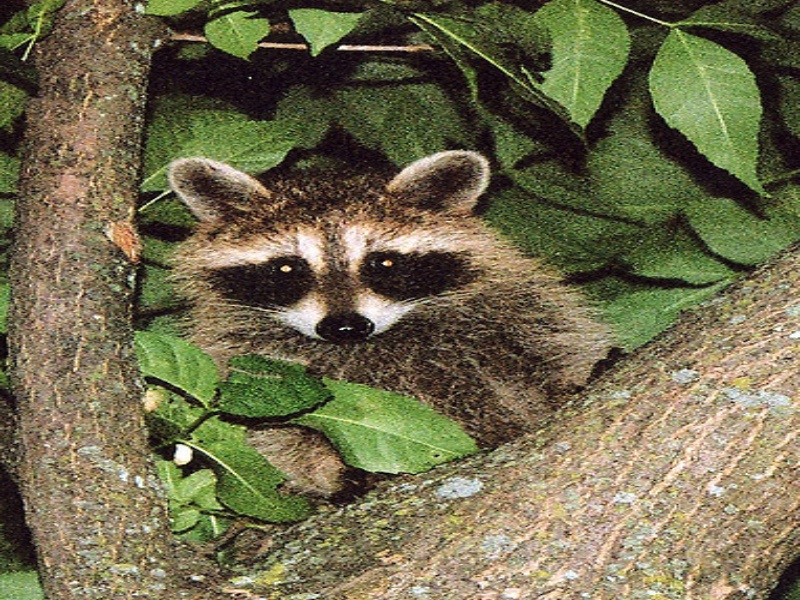raccoon: (164, 141, 624, 513)
